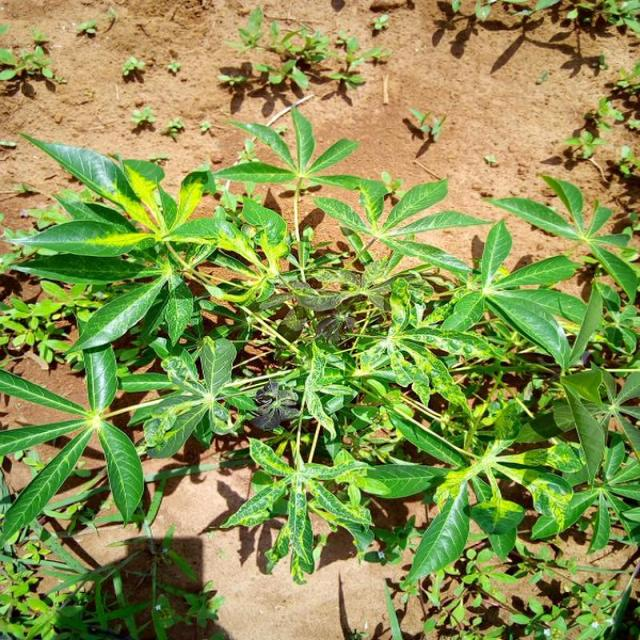Mosaico: (58, 152, 305, 287), (238, 436, 447, 562), (162, 347, 325, 492), (316, 167, 489, 292), (390, 447, 597, 538), (342, 296, 476, 422)
